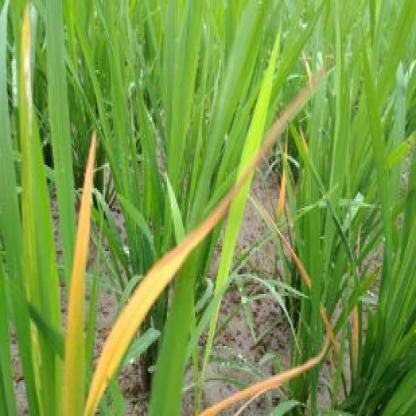Tungro: (58, 129, 105, 416)
